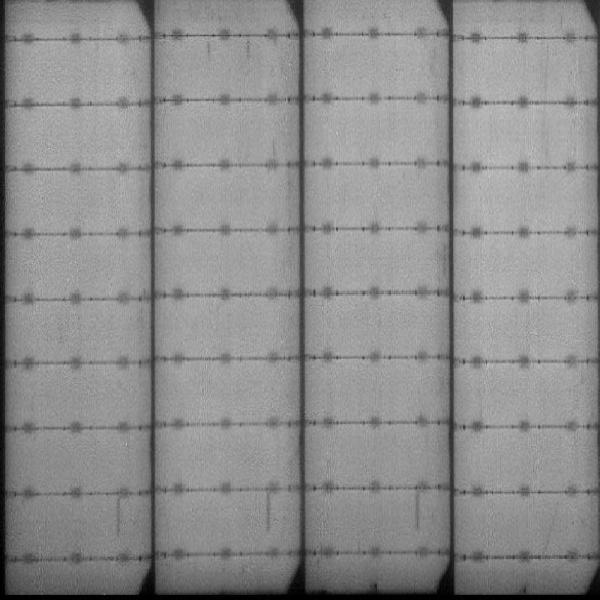scratch: (411, 489, 427, 530), (263, 490, 277, 532), (111, 496, 124, 534)
